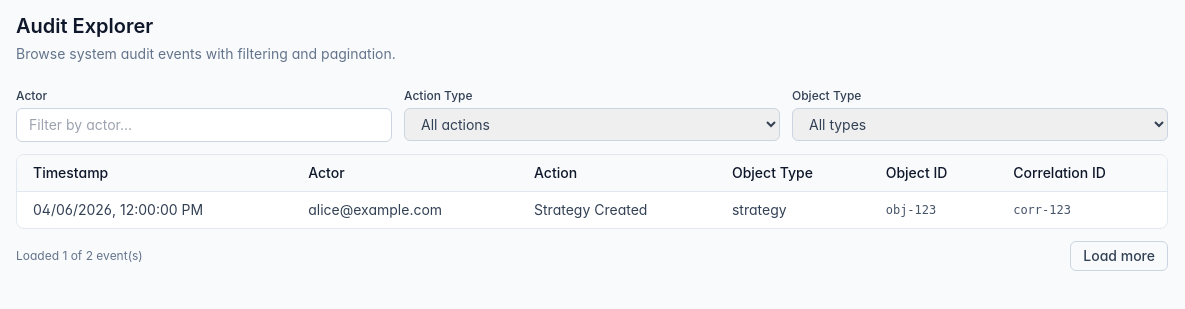
Test: AuditExplorer › appends next page results when 'Load more' is clicked
Expected: the row with test id "audit-row-01HAUD00000000000000PAGE1" is shown, [17, 192, 1167, 228]
Click the button "Load more": point(1119, 256) [1070, 241, 1168, 271]
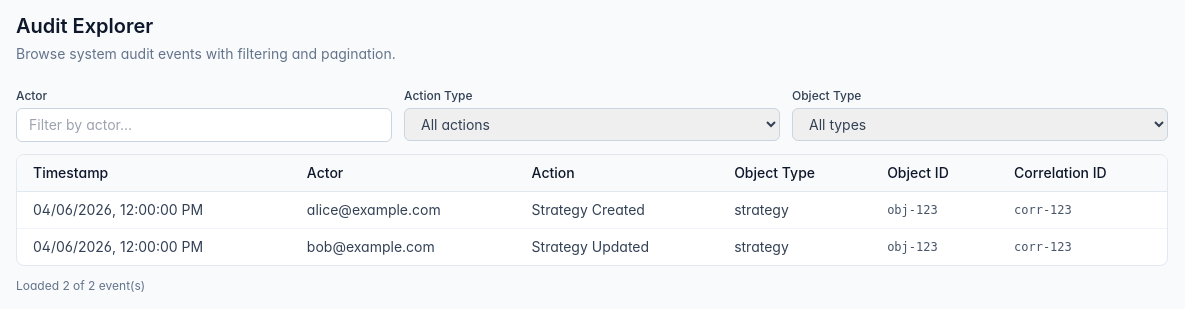
Expected: the row with test id "audit-row-01HAUD00000000000000PAGE1" is shown, [17, 192, 1167, 228]
Now the row with test id "audit-row-01HAUD00000000000000PAGE2" is shown, box [17, 228, 1167, 265]
Now the button "Load more" is gone
